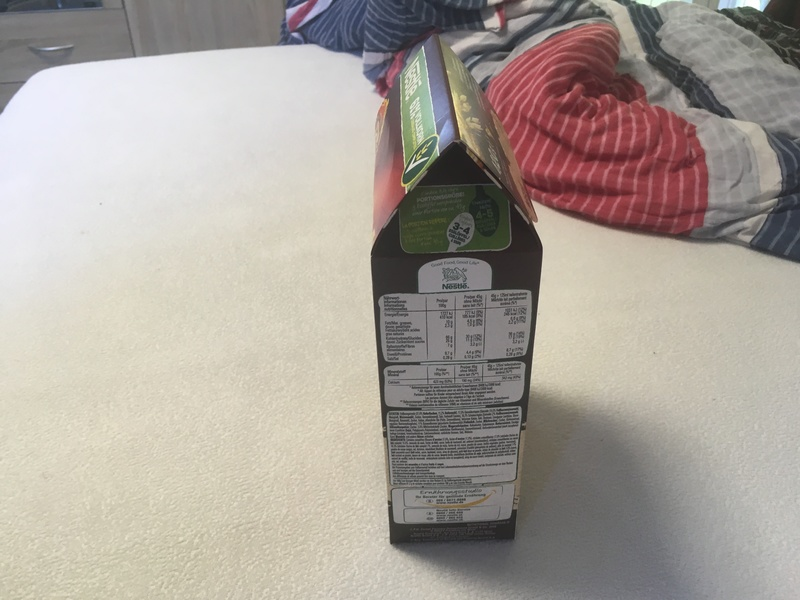cereals: (372, 34, 543, 547)
